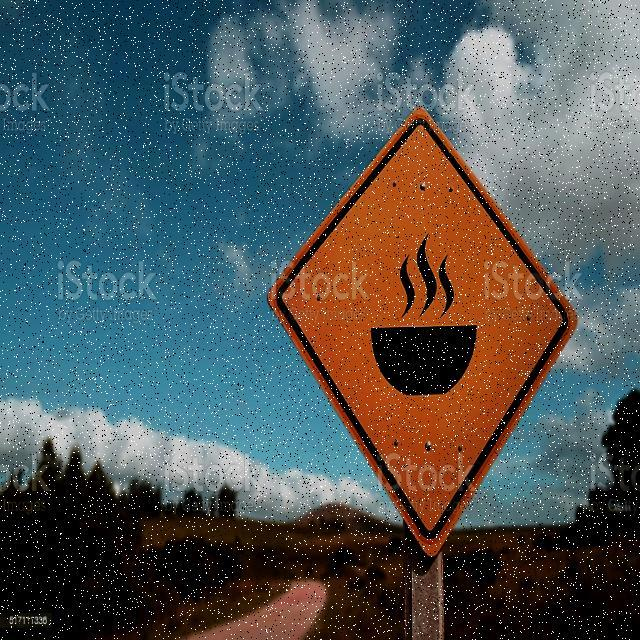Traffic sign: (262, 103, 582, 562)
